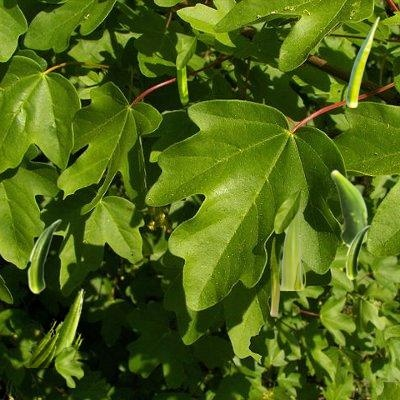okra: (26, 288, 84, 366), (330, 169, 367, 247), (346, 16, 378, 106), (27, 219, 60, 293), (279, 212, 304, 289), (345, 225, 369, 279), (177, 38, 187, 104), (270, 237, 278, 315)
